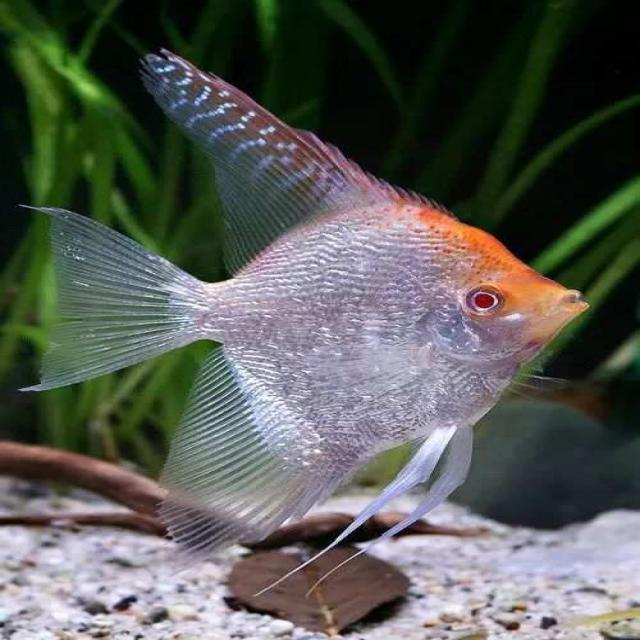AngelFish: (48, 48, 586, 556)
